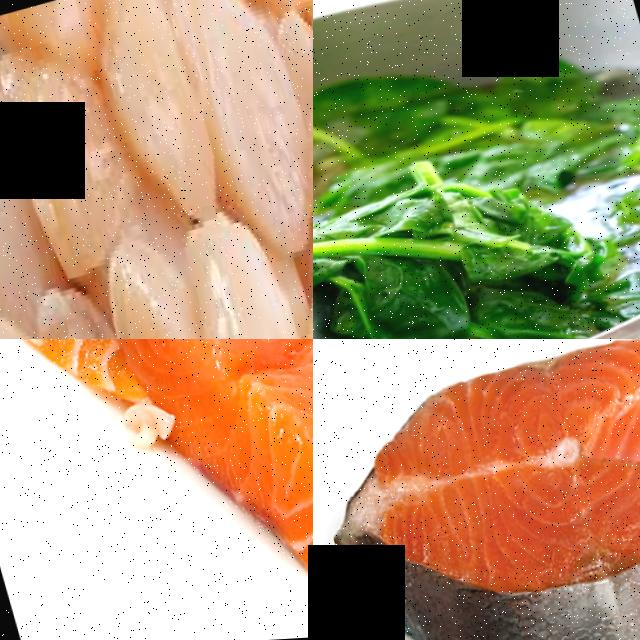salmon: (313, 339, 640, 640), (0, 339, 313, 640)
sea scallops: (155, 200, 313, 339), (84, 218, 228, 339), (287, 95, 313, 269)
spinach: (318, 245, 467, 339), (360, 180, 460, 255), (452, 233, 541, 296)
